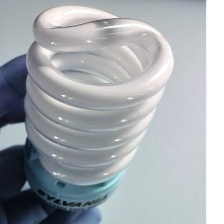light_bulb: (19, 3, 175, 216)
